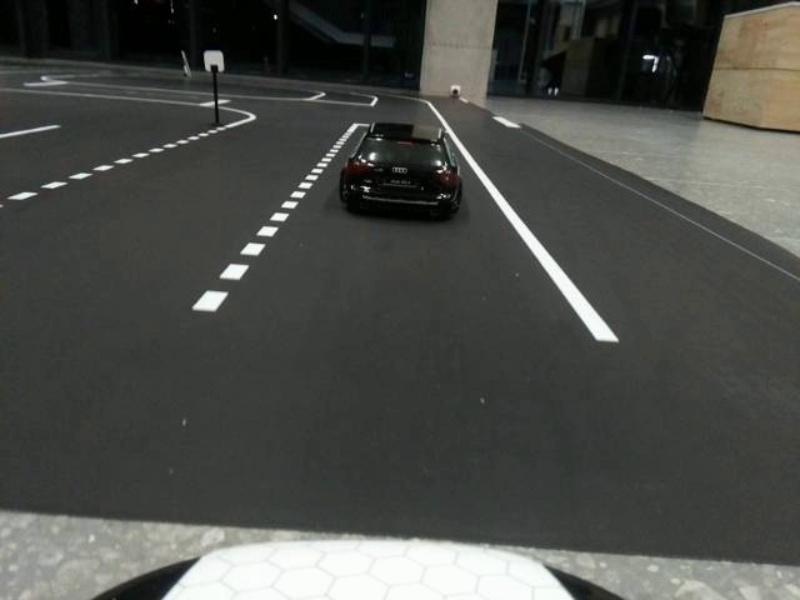car: (330, 102, 482, 226)
